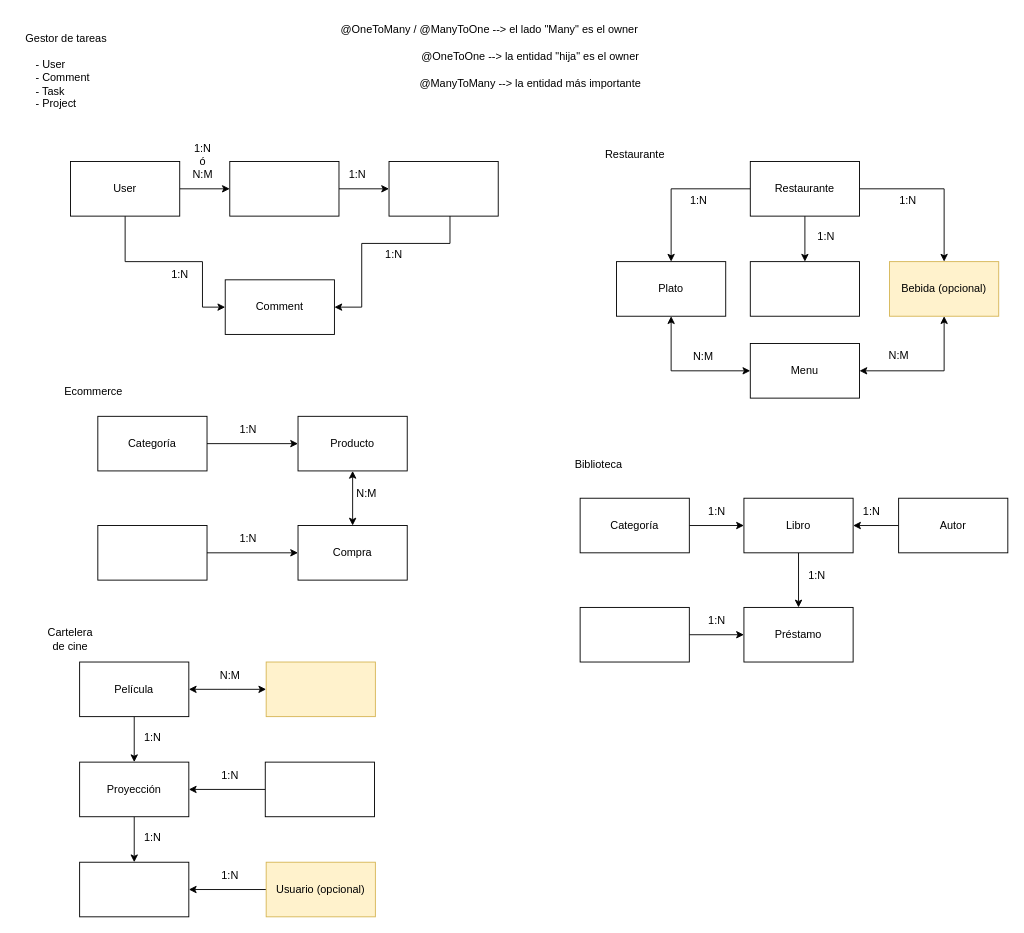
Image size: 1024x933. Some labels were removed from this diagram. The box of each missing label's shape, as (x1, y1, x2, y2) in pixels:
Actor (opcional): (265, 661, 375, 717)
Mesa: (749, 261, 859, 316)
Project: (229, 161, 339, 216)
Reserva: (79, 861, 189, 917)
Sala: (264, 761, 374, 817)
Socio: (579, 607, 689, 662)
Task: (388, 161, 498, 216)
Usuario: (97, 525, 207, 580)
